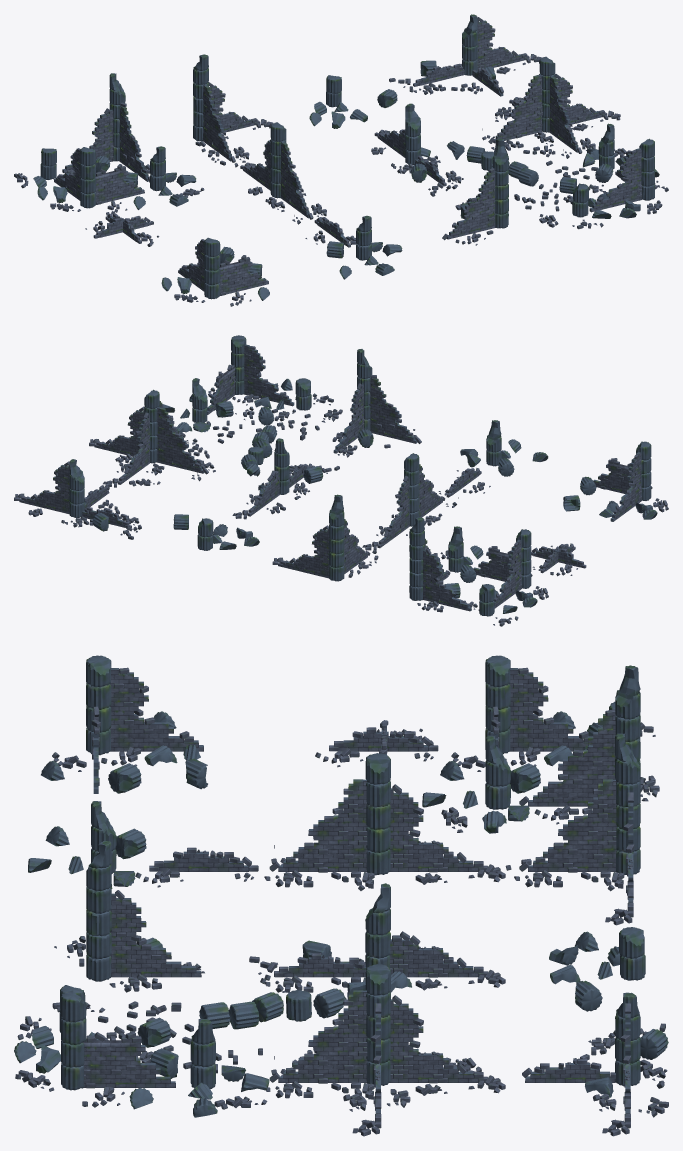
File: ancient_ruins_pack.glb
The picture shows the model from 3 angles, top to bottom: view 1: azimuth 30°, elevation 25°; view 2: azimuth 150°, elevation 25°; view 3: azimuth 270°, elevation 25°; orthographic projection. The views are drawn at different scales.
Visible parts, largest first — view 1: Pillar3, Pillar10, Walls10, Wall2, Bricks2, Pillars12, Walls1, Walls12, Wall7, Bricks3, Pillar9, Wall8 (+19 smaller); view 2: Pillar3, Pillar10, Wall2, Walls10, Walls6, Walls3, Wall7, Bricks3, Pillars12, Bricks2, Walls1, Walls12 (+19 smaller); view 3: Pillar3, Pillar10, Wall2, Walls10, Wall8, Bricks2, Pillars12, Wall7, Walls12, Pillar4, Bricks8, Pillar6 (+21 smaller).
Part boxes in pixels (left/top/right/bottom): Pillar3: left=447, top=123, right=659, bottom=218; Pillar10: left=33, top=73, right=196, bottom=209; Walls10: left=54, top=106, right=148, bottom=204; Wall2: left=493, top=74, right=602, bottom=152; Bricks2: left=482, top=74, right=620, bottom=158; Pillars12: left=161, top=237, right=269, bottom=300; Walls1: left=419, top=20, right=524, bottom=96; Walls12: left=178, top=240, right=268, bottom=295; Wall7: left=202, top=84, right=254, bottom=161; Bricks3: left=514, top=148, right=668, bottom=229; Pillar9: left=326, top=215, right=402, bottom=279; Wall8: left=246, top=140, right=309, bottom=218; Pillar3: left=162, top=335, right=311, bottom=476; Pillar10: left=409, top=517, right=537, bottom=616; Wall2: left=99, top=401, right=204, bottom=482; Walls10: left=422, top=538, right=521, bottom=611; Walls6: left=333, top=377, right=417, bottom=453; Walls3: left=207, top=344, right=294, bottom=414; Wall7: left=283, top=519, right=367, bottom=578; Bricks3: left=170, top=346, right=342, bottom=443; Pillars12: left=563, top=441, right=657, bottom=519; Bricks2: left=89, top=404, right=215, bottom=487; Walls1: left=24, top=464, right=125, bottom=527; Walls12: left=593, top=452, right=641, bottom=521; Pillar3: left=14, top=982, right=365, bottom=1117; Pillar10: left=422, top=655, right=640, bottom=833; Wall2: left=278, top=990, right=478, bottom=1113; Walls10: left=493, top=668, right=616, bottom=806; Wall8: left=278, top=779, right=478, bottom=871; Bricks2: left=266, top=995, right=505, bottom=1136; Pillars12: left=41, top=655, right=207, bottom=793; Wall7: left=528, top=779, right=633, bottom=902; Walls12: left=93, top=668, right=203, bottom=793; Pillar4: left=549, top=927, right=645, bottom=1011; Bricks8: left=264, top=784, right=505, bottom=890; Pillar6: left=86, top=841, right=163, bottom=981.
Bounding box in the file's own units: 19.44 × 3.08 × 13.12.
Materials: 2 (2 with a texture image).
